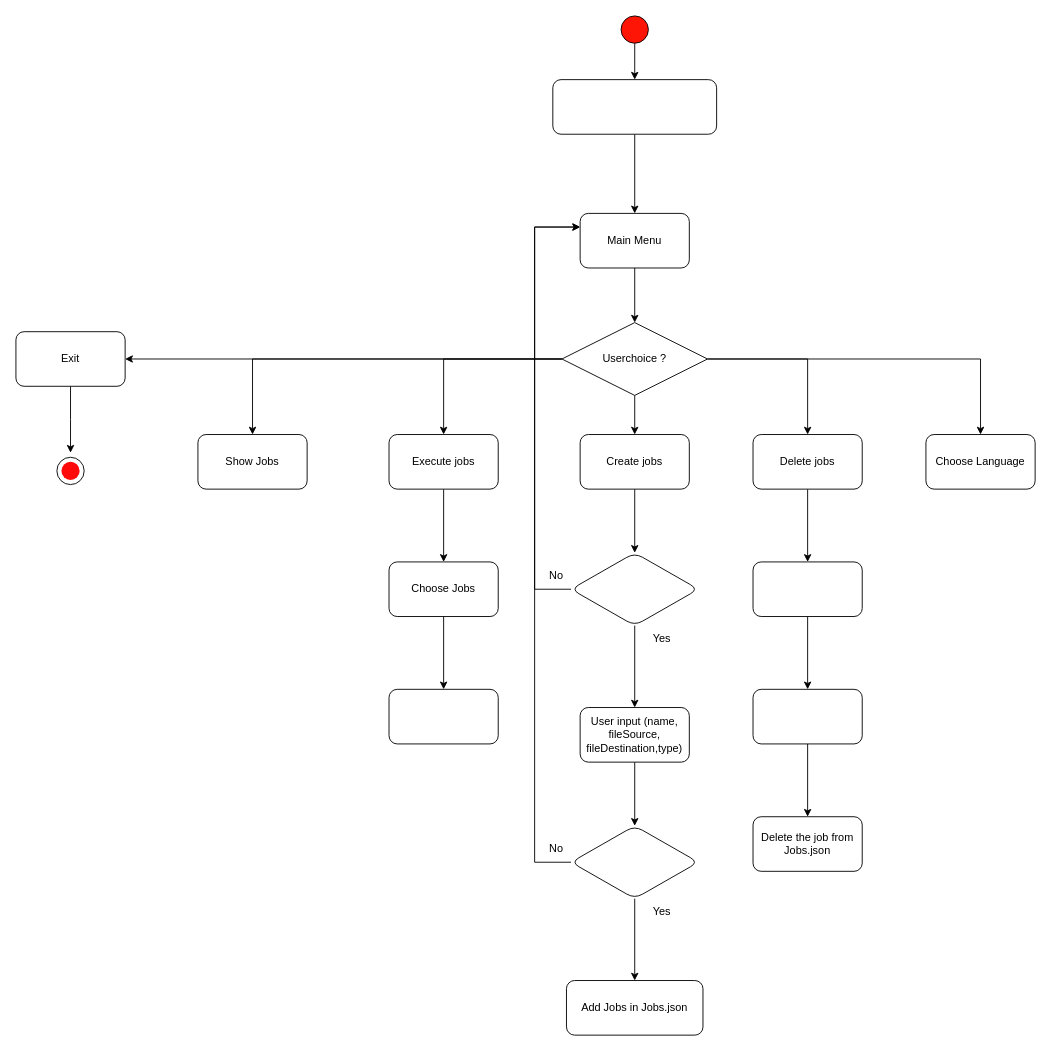
This 1051x1051 diagram has some shape labels left out. The centre of each missing label's shape, as x and y in pixels:
Execute Backup for the jobs selected: point 443,716
input of the user to choose the job to delete: point 807,716
Jobs count < 5 ?: point 634,589
Paths valid ?: point 634,862
Show list of jobs available: point 807,589
Update the console display: point 634,106
